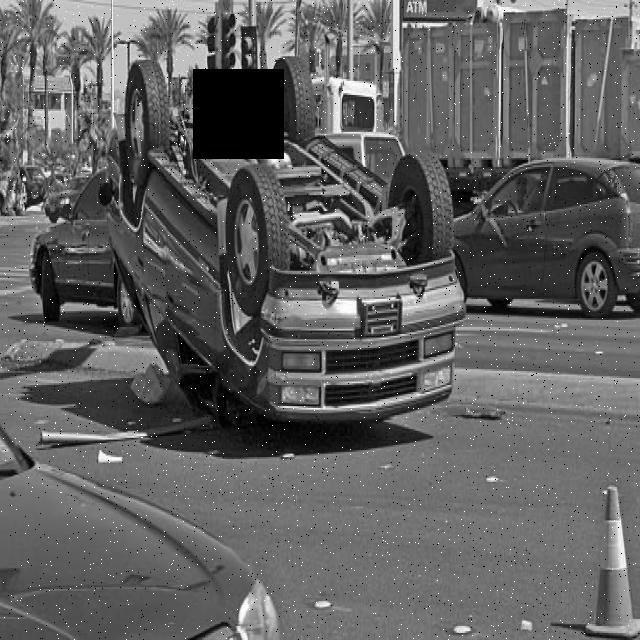accident: (105, 47, 469, 445)
vehicle: (2, 385, 287, 640), (456, 158, 640, 314), (32, 176, 138, 322), (45, 174, 89, 214)
